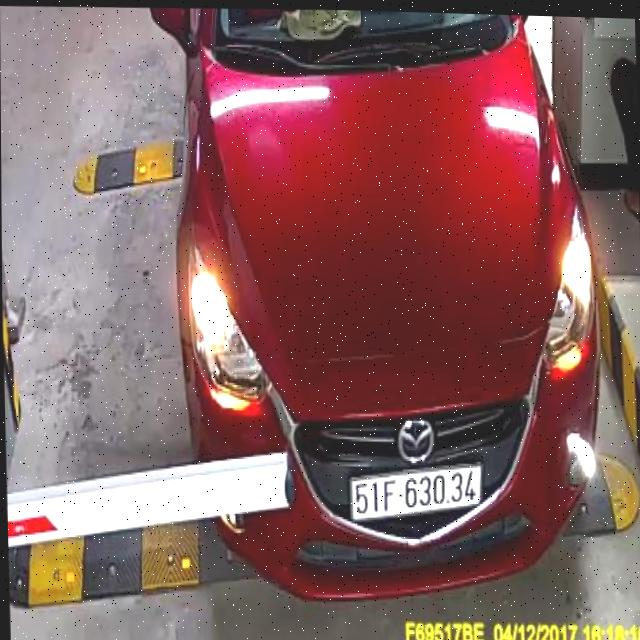car: (140, 4, 614, 616)
plate: (350, 459, 483, 525)
